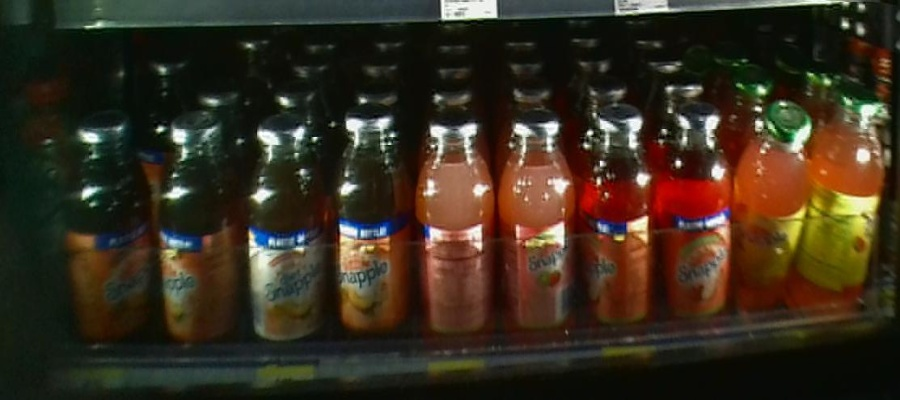bottle: (62, 104, 154, 367), (412, 108, 501, 366), (240, 105, 325, 366), (155, 105, 239, 368), (328, 106, 410, 370), (577, 103, 654, 353), (657, 99, 733, 344), (501, 113, 573, 364), (735, 99, 809, 332), (814, 85, 883, 331)
